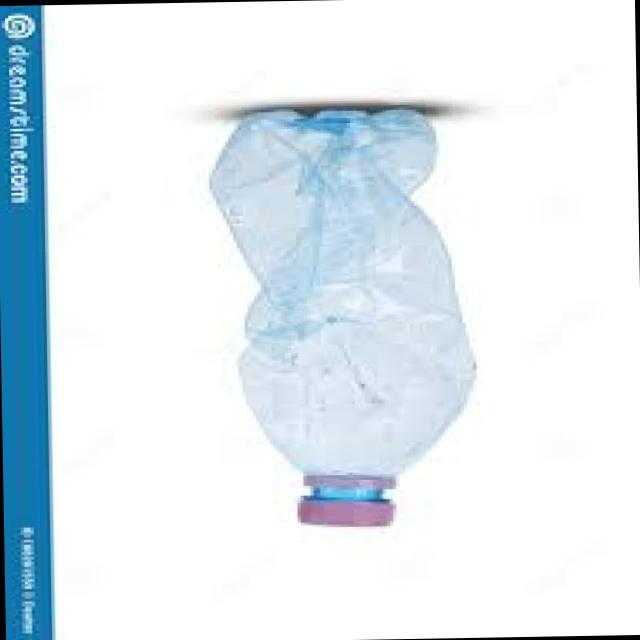defected: (180, 93, 484, 559)
